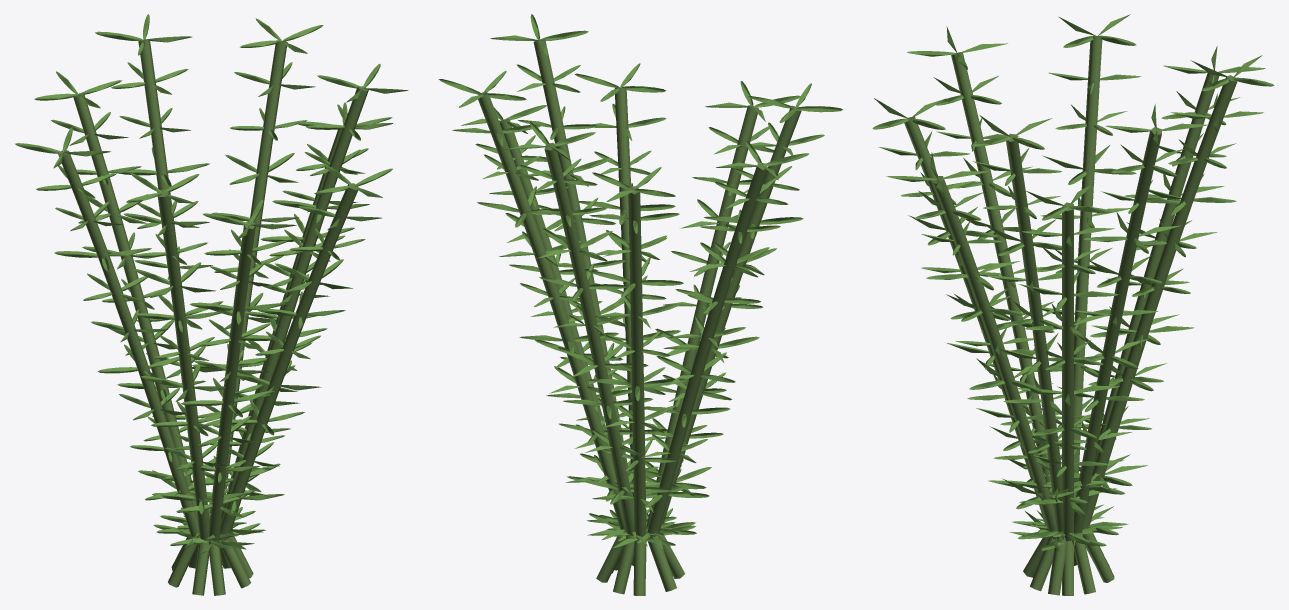
The model's file is asparagus-densiflorus-sprengeri.glb.
The picture shows the model from 3 angles, left to right: view 1: azimuth 30°, elevation 25°; view 2: azimuth 150°, elevation 25°; view 3: azimuth 270°, elevation 25°; orthographic projection. The views are drawn at different scales.
Visible parts, largest first — view 1: Foxtail fern needle leaves, Foxtail fern stems; view 2: Foxtail fern stems, Foxtail fern needle leaves; view 3: Foxtail fern stems, Foxtail fern needle leaves.
Boxes of the visible parts, x1=… form: Foxtail fern needle leaves: x1=15, y1=14, x2=408, y2=554; Foxtail fern stems: x1=58, y1=39, x2=368, y2=595; Foxtail fern stems: x1=478, y1=39, x2=801, y2=595; Foxtail fern needle leaves: x1=438, y1=14, x2=842, y2=549; Foxtail fern stems: x1=904, y1=36, x2=1237, y2=595; Foxtail fern needle leaves: x1=872, y1=14, x2=1274, y2=551.
Size of the model in its own units: 0.2498 by 0.3458 by 0.2447.
